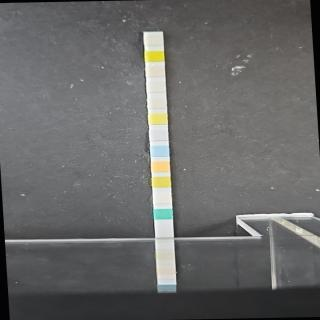mark: (149, 127, 169, 142), (148, 112, 168, 126), (147, 80, 166, 94), (148, 96, 167, 110), (153, 208, 174, 220), (150, 145, 170, 157), (144, 51, 165, 62), (151, 161, 170, 173), (153, 192, 172, 204), (144, 36, 164, 47), (152, 177, 170, 189), (146, 66, 165, 77)
